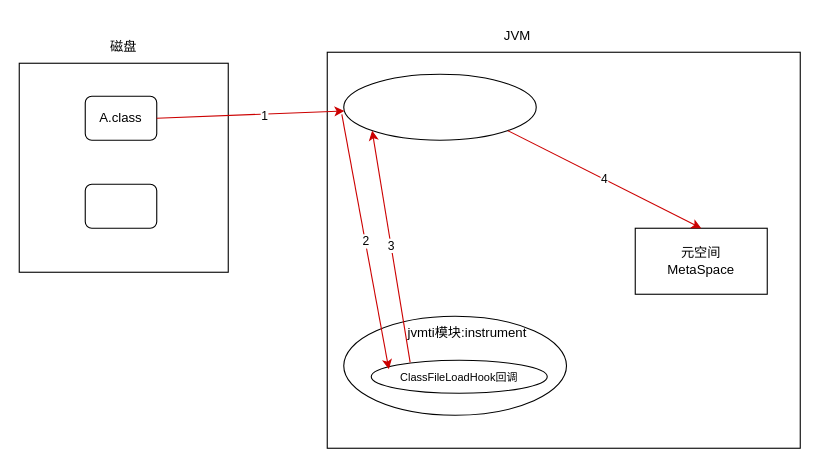
The diagram is 820 pixels wide and 468 high, and some of its shapes have lost their labels. Here are the shapes that lost their labels. From the top down, the centre of each, then its label:
[439,106]: 类加载子系统
[120,205]: B.class
